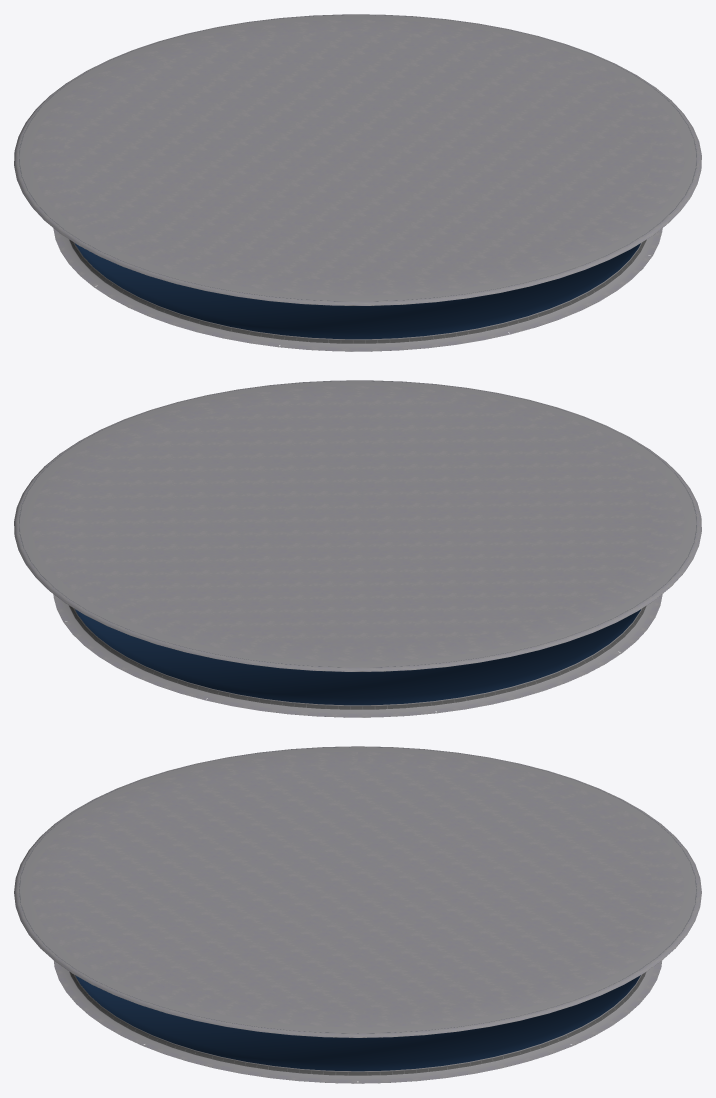
File: SM_Floor03.fbx
3 views of the same model, one above another, from view 1: azimuth 30°, elevation 25°; view 2: azimuth 150°, elevation 25°; view 3: azimuth 270°, elevation 25° (orthographic).
Parts seen in each view (by area): view 1: SM_Floor03_LOD0; view 2: SM_Floor03_LOD0; view 3: SM_Floor03_LOD0.
Boxes of the visible parts, box(x1,y1,x2,y2) form: SM_Floor03_LOD0: box(14, 14, 701, 351); SM_Floor03_LOD0: box(14, 380, 701, 717); SM_Floor03_LOD0: box(14, 746, 701, 1083).
Size of the model in its own units: 9000 by 9000 by 1000.
Materials: 3 (3 with a texture image).
